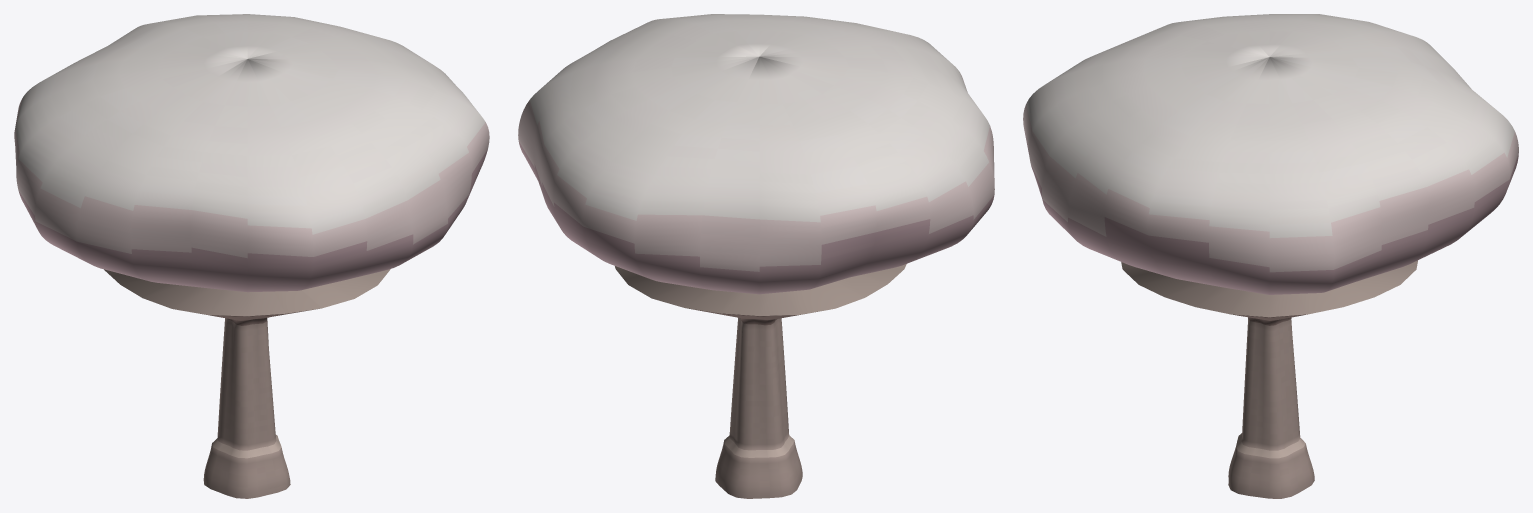
File: Cotton_Tuft.glb
The picture shows the model from 3 angles, left to right: view 1: azimuth 30°, elevation 25°; view 2: azimuth 150°, elevation 25°; view 3: azimuth 270°, elevation 25°; orthographic projection.
Visible parts, largest first — view 1: CottonTuft; view 2: CottonTuft; view 3: CottonTuft.
Part boxes in pixels (x1,y1,x2,y2): CottonTuft: (14,14,489,498); CottonTuft: (518,14,994,498); CottonTuft: (1023,14,1518,498).
Size of the model in its own units: 2.75 by 2.62 by 2.76.
